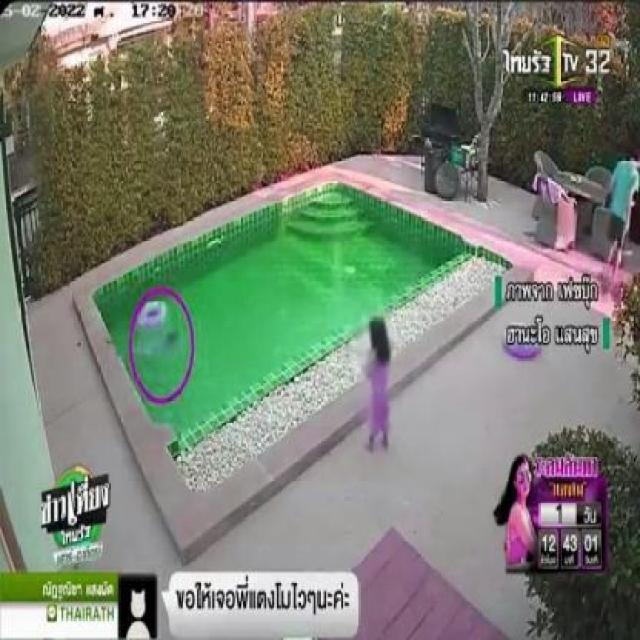drowning: (134, 334, 183, 355)
